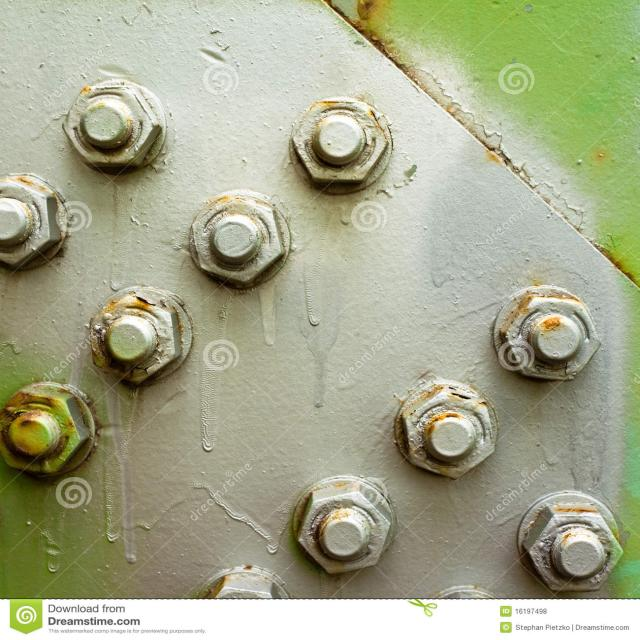bolt nut: (502, 289, 603, 386), (86, 293, 185, 391), (399, 385, 497, 483), (188, 192, 288, 288), (60, 82, 160, 174), (520, 504, 624, 592), (296, 485, 394, 577), (291, 98, 388, 190), (4, 386, 92, 480)
